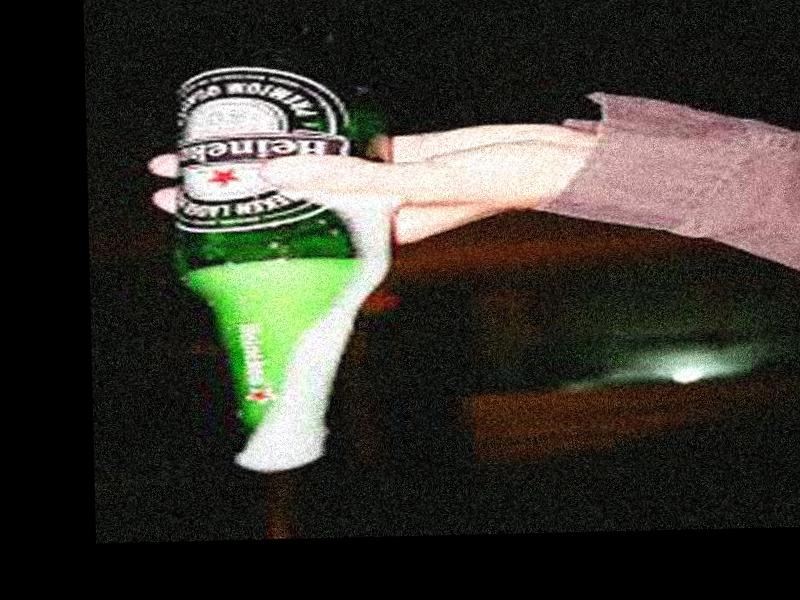Beer: (162, 53, 399, 454)
